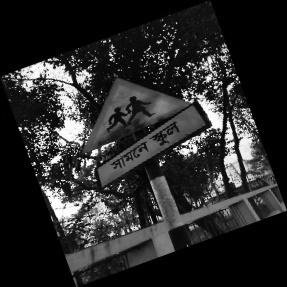School-in-front: (82, 78, 209, 190)
